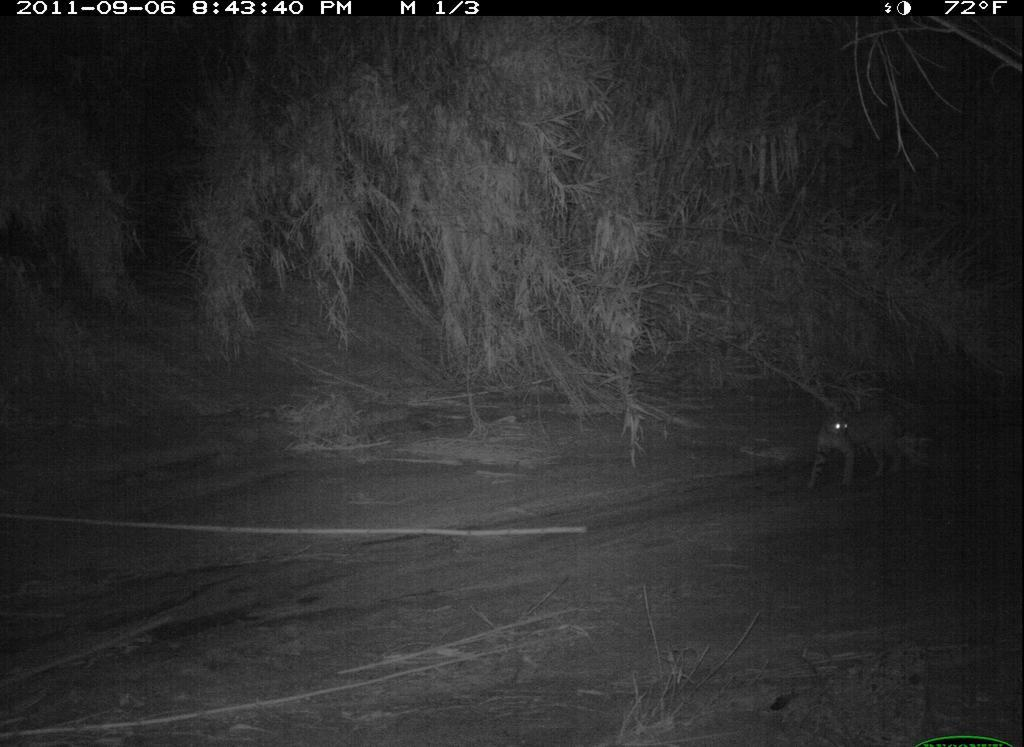bobcat: (789, 383, 923, 489)
